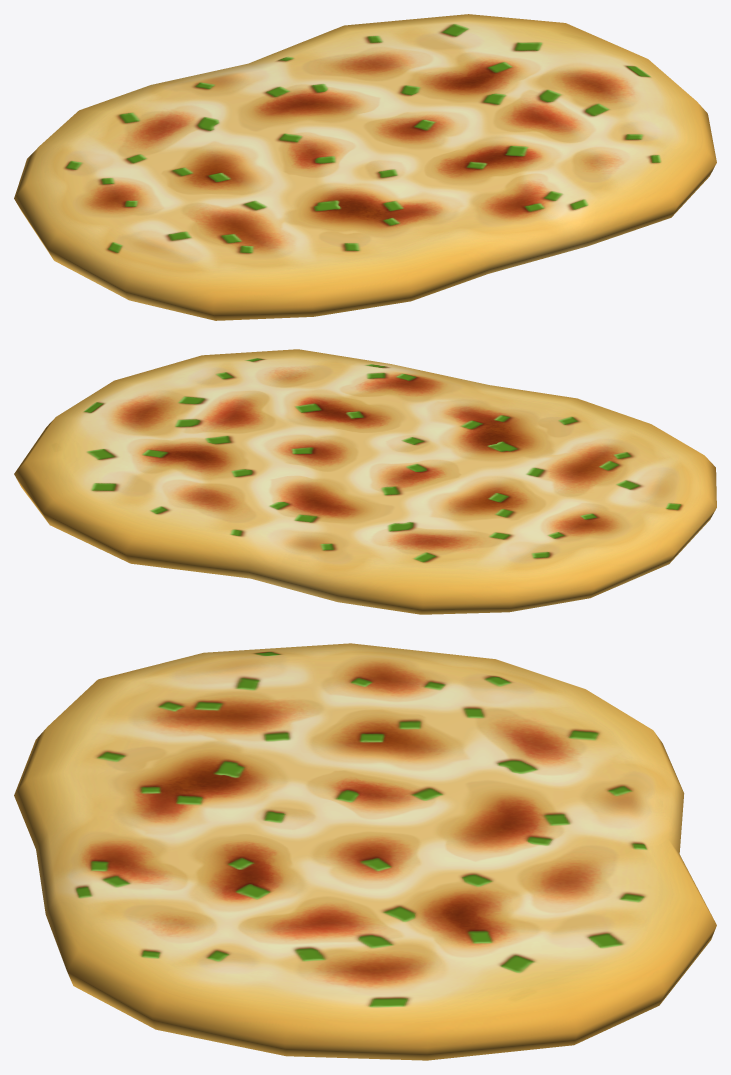
The model's file is Naan.fbx.
3 views of the same model, one above another, from view 1: azimuth 30°, elevation 25°; view 2: azimuth 150°, elevation 25°; view 3: azimuth 270°, elevation 25° (orthographic). The views are drawn at different scales.
Parts seen in each view (by area): view 1: Naan; view 2: Naan; view 3: Naan.
Part boxes in pixels (x1,y1,x2,y2): Naan: [14, 14, 716, 320]; Naan: [14, 349, 716, 614]; Naan: [14, 643, 716, 1060].
Size of the model in its own units: 67.33 by 4.56 by 50.82.
